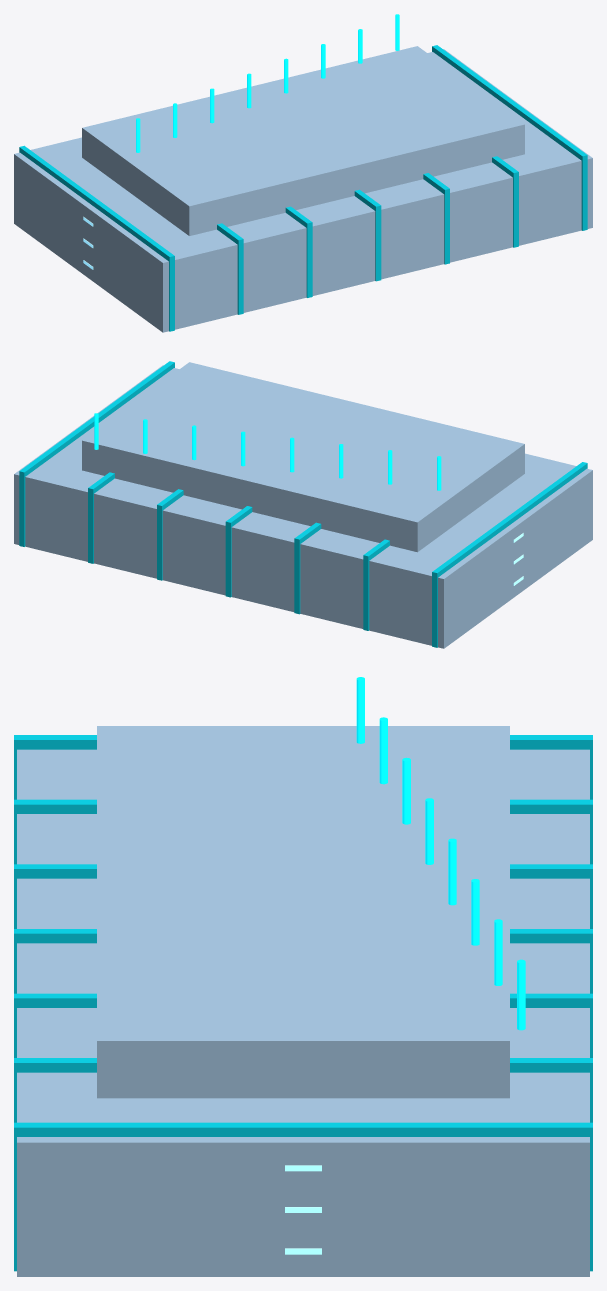
File: signal_velocity_center.glb
The picture shows the model from 3 angles, top to bottom: view 1: azimuth 30°, elevation 25°; view 2: azimuth 150°, elevation 25°; view 3: azimuth 270°, elevation 25°; orthographic projection. The views are drawn at different scales.
Visible parts, largest first — view 1: signal_velocity_center; view 2: signal_velocity_center; view 3: signal_velocity_center.
Boxes of the visible parts, <box> form: signal_velocity_center: <box>14,14,592,332</box>; signal_velocity_center: <box>14,361,592,648</box>; signal_velocity_center: <box>14,677,592,1276</box>.
Size of the model in its own units: 61.12 by 17.95 by 36.97.
